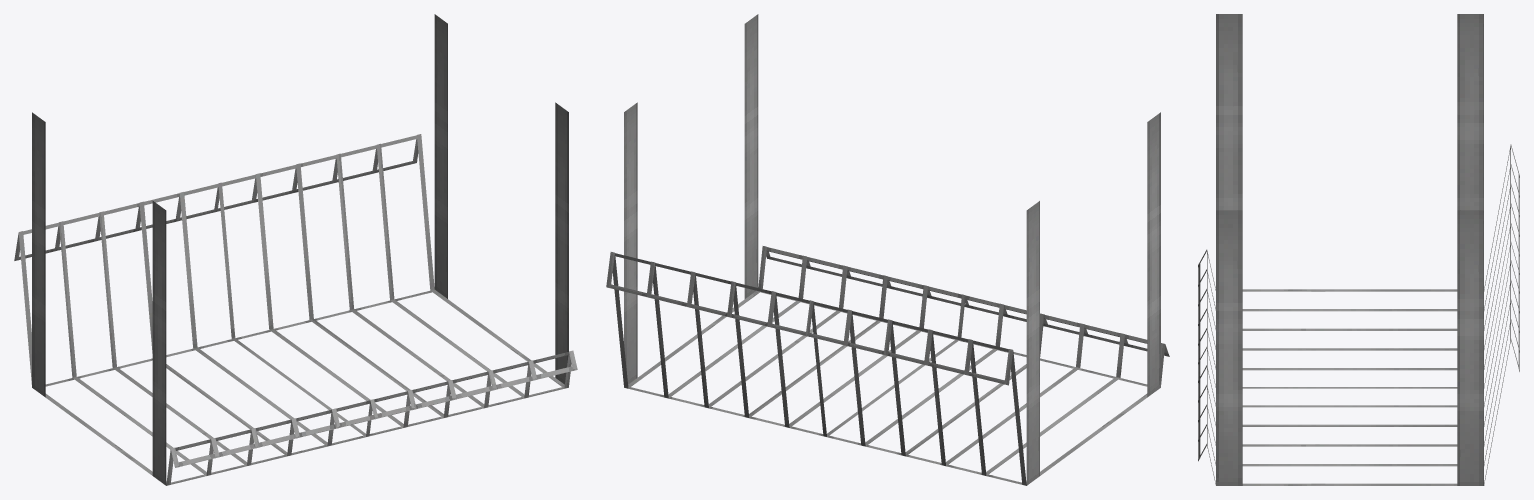
Rendered from DishRack.glb.
The picture shows the model from 3 angles, left to right: view 1: azimuth 30°, elevation 25°; view 2: azimuth 150°, elevation 25°; view 3: azimuth 270°, elevation 25°; orthographic projection.
Parts seen in each view (by area): view 1: dish rack; view 2: dish rack; view 3: dish rack.
Part boxes in pixels (bbox=[...]): dish rack: bbox=[14, 14, 577, 485]; dish rack: bbox=[606, 14, 1169, 485]; dish rack: bbox=[1198, 14, 1519, 485].
Bounding box in the file's own units: 0.52 × 0.3401 × 0.36.
Materials: 1 (1 with a texture image).
